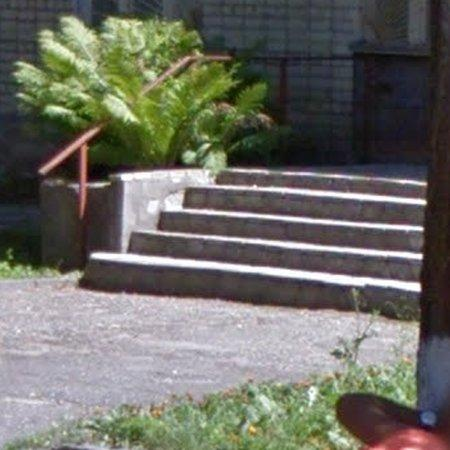stairs: (85, 169, 427, 320)
